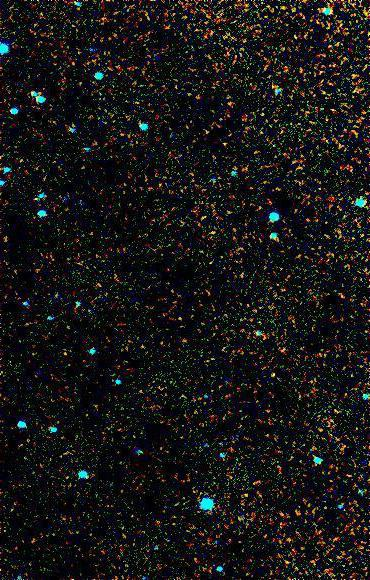star: (260, 360, 290, 390)
